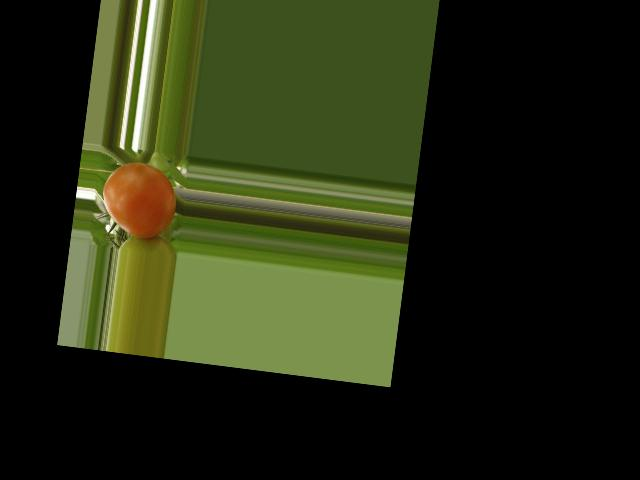tomato: (97, 158, 180, 242)
